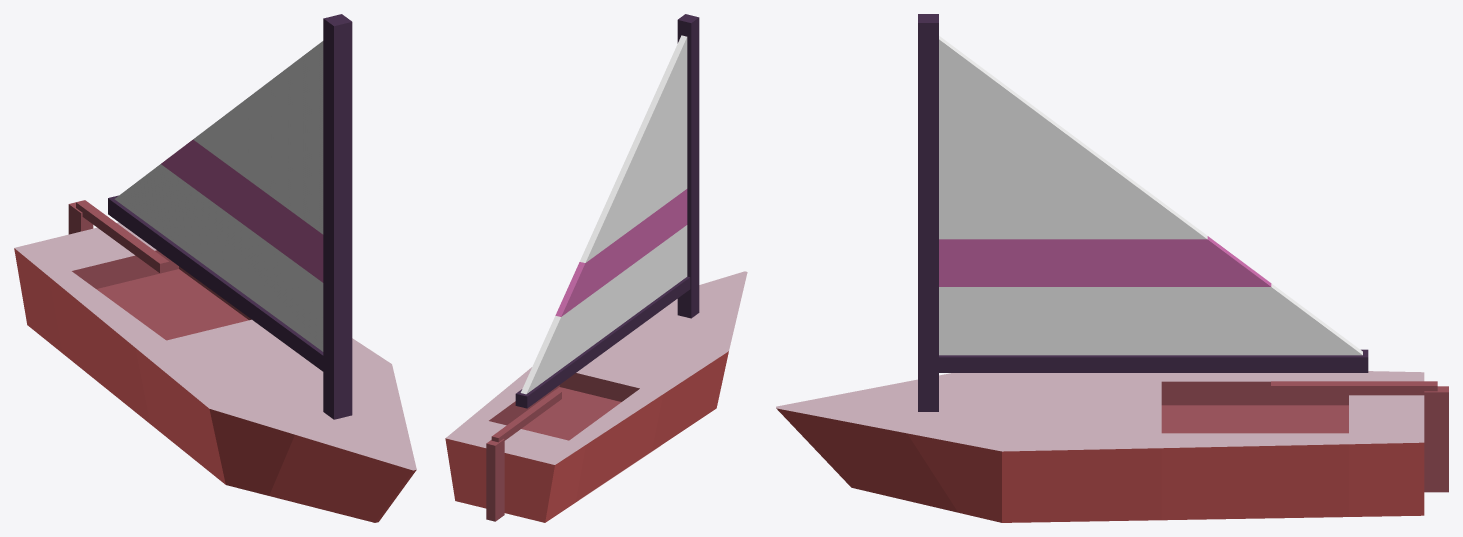
File: sailboat.glb
3 renders of one model, left to right at view 1: azimuth 30°, elevation 25°; view 2: azimuth 150°, elevation 25°; view 3: azimuth 270°, elevation 25°, orthographic. The views are drawn at different scales.
Parts seen in each view (by area): view 1: Hull, Rig; view 2: Hull, Rig; view 3: Hull, Rig.
Boxes of the visible parts, bbox=[...] form: Hull: bbox=[14, 200, 416, 522]; Rig: bbox=[108, 14, 352, 419]; Hull: bbox=[445, 271, 747, 522]; Rig: bbox=[515, 14, 699, 408]; Hull: bbox=[776, 371, 1448, 522]; Rig: bbox=[918, 14, 1368, 411].
Size of the model in its own units: 1.19 by 2.97 by 3.84.
